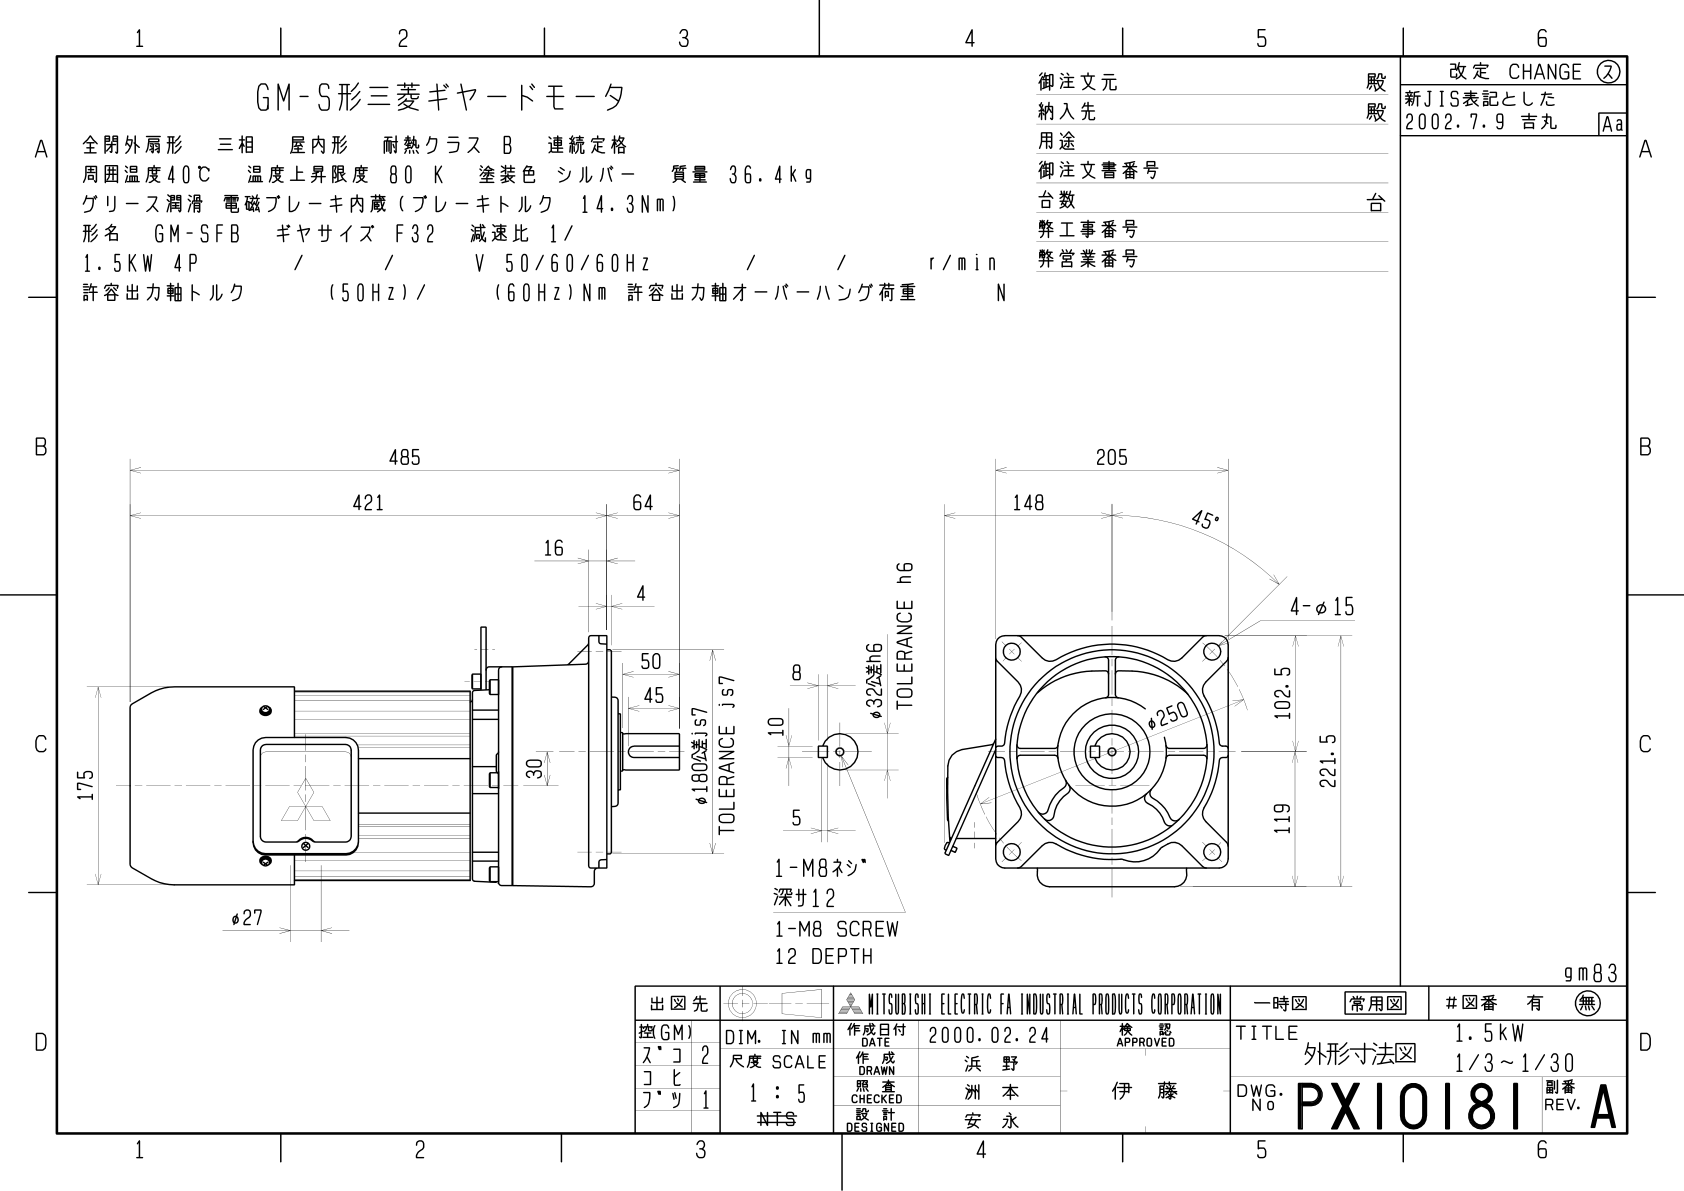GM_S_屋内＿三相_フランジ: (64, 373, 1379, 978)
